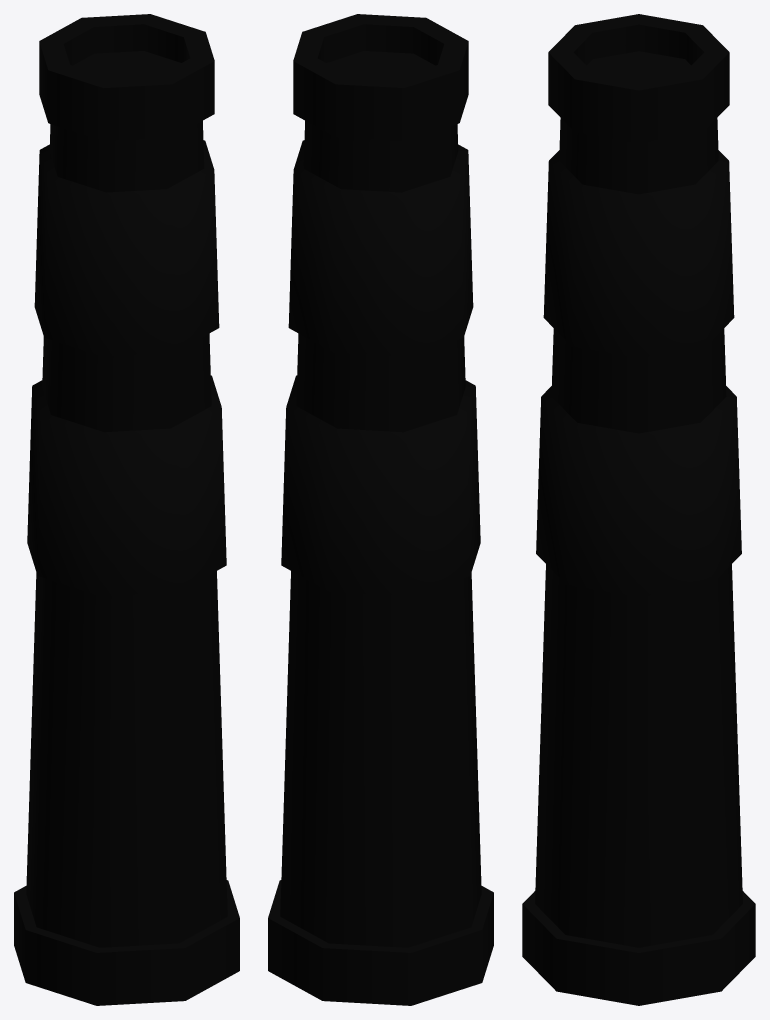
Rendered from chimney-medium.glb.
3 renders of one model, left to right at view 1: azimuth 30°, elevation 25°; view 2: azimuth 150°, elevation 25°; view 3: azimuth 270°, elevation 25°, orthographic.
Visible parts, largest first — view 1: chimney-medium; view 2: chimney-medium; view 3: chimney-medium.
Boxes of the visible parts, <box> form: chimney-medium: <box>14,14,239,1005</box>; chimney-medium: <box>268,14,493,1005</box>; chimney-medium: <box>522,14,755,1005</box>.
Size of the model in its own units: 0.45 by 1.92 by 0.45.
Materials: 1 (1 with a texture image).
